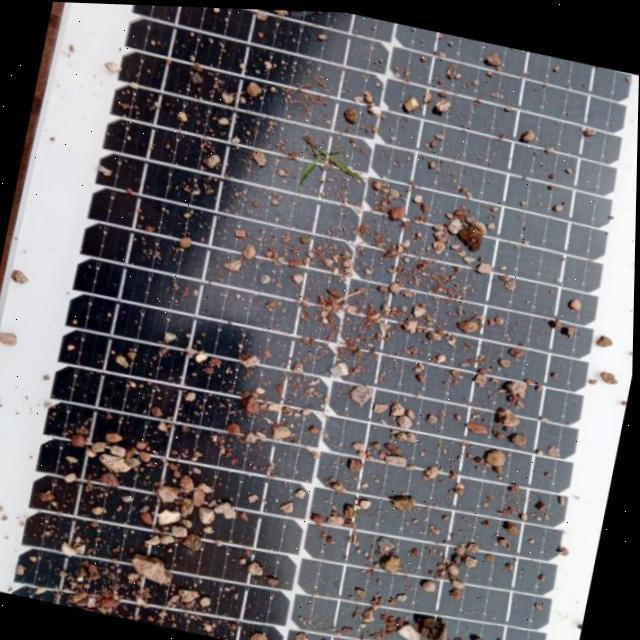Anomaly Solar Panel: (0, 0, 640, 640)
Surface Contaminant: (0, 2, 639, 640)
